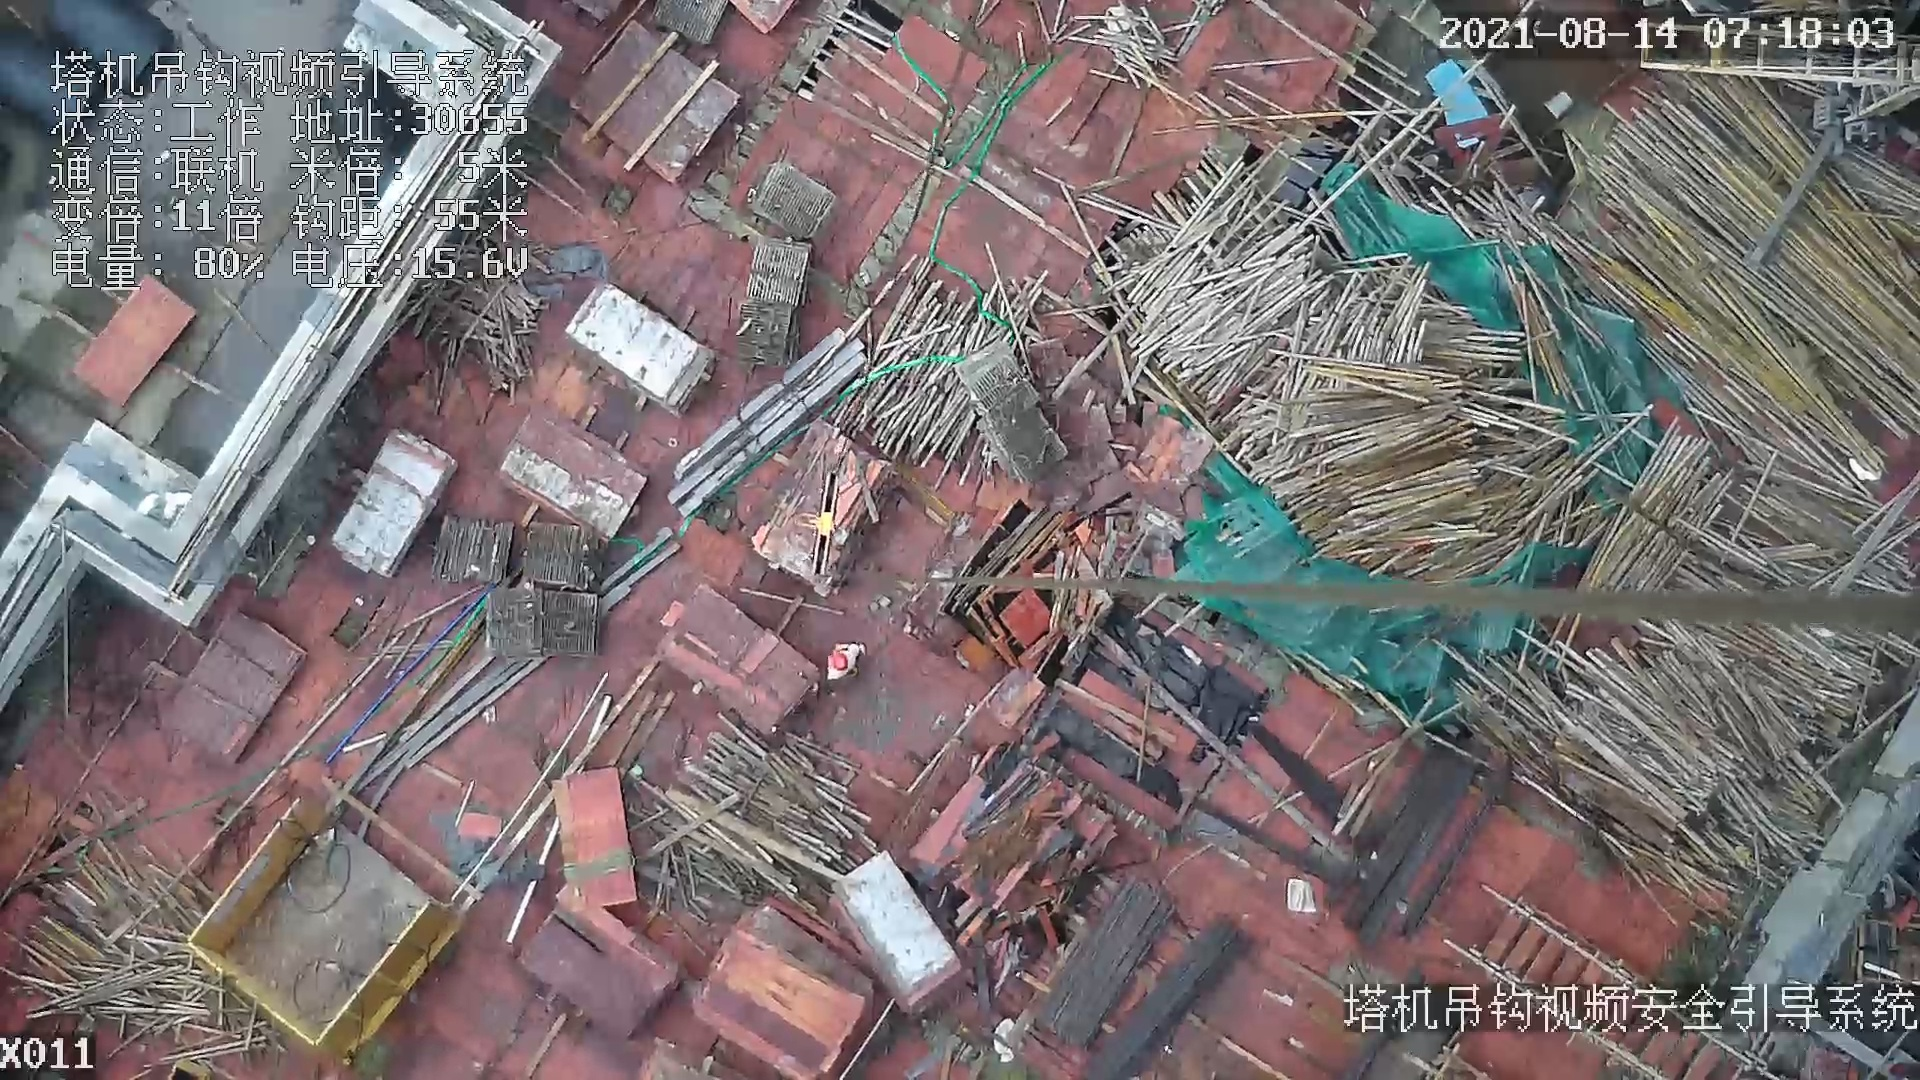helmet: (826, 650, 851, 676)
hook: (790, 464, 847, 586)
person: (822, 632, 865, 689)
